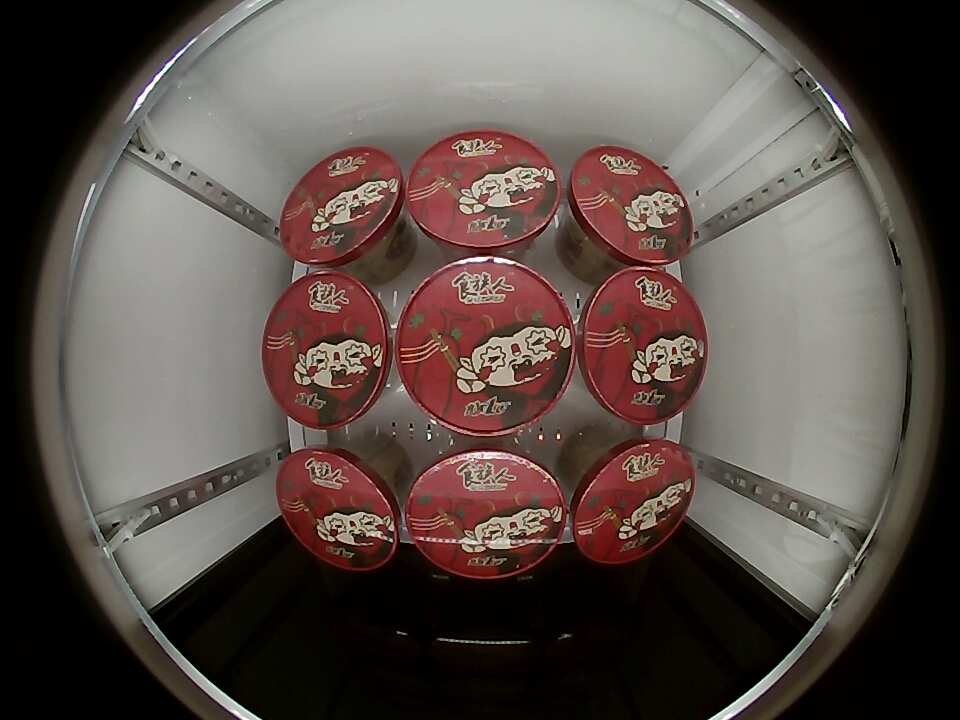suanlafen: (394, 256, 577, 438), (404, 442, 569, 580), (261, 271, 395, 429), (576, 268, 709, 424), (405, 130, 563, 254), (275, 443, 404, 571), (568, 438, 696, 564), (279, 147, 407, 269), (566, 145, 694, 267)
